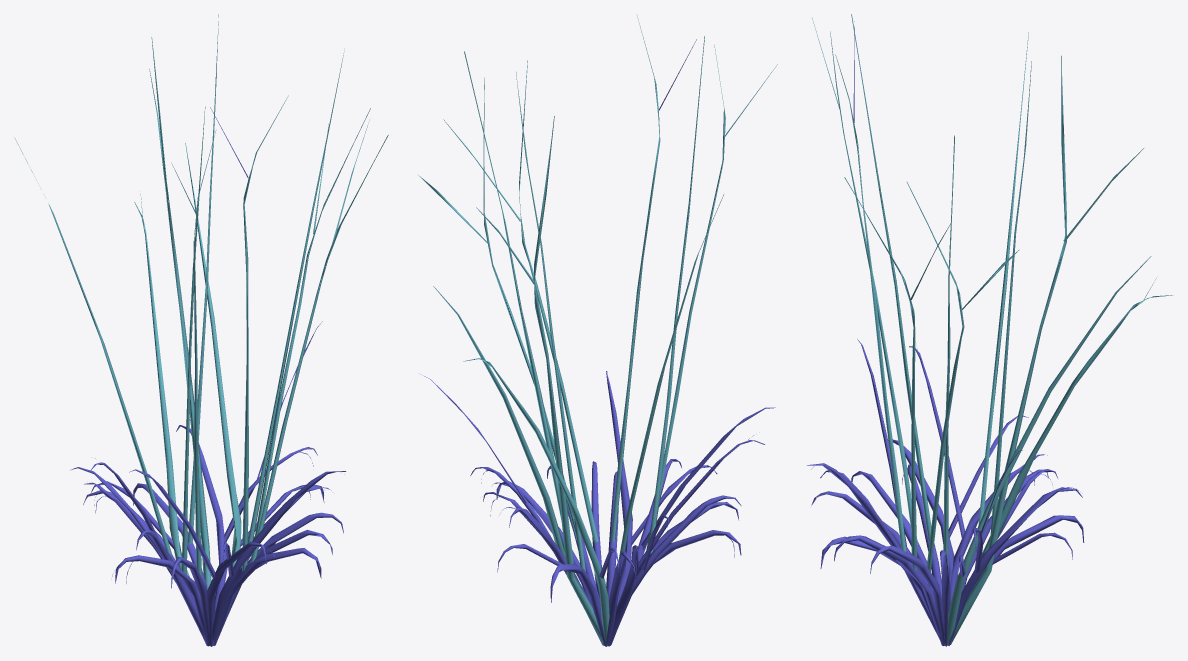
File: grass_3.obj
The picture shows the model from 3 angles, left to right: view 1: azimuth 30°, elevation 25°; view 2: azimuth 150°, elevation 25°; view 3: azimuth 270°, elevation 25°; orthographic projection. The views are drawn at different scales.
Parts seen in each view (by area): view 1: Grass_Bundle_3_CUtree.001; view 2: Grass_Bundle_3_CUtree.001; view 3: Grass_Bundle_3_CUtree.001.
Boxes of the visible parts, bbox=[...] form: Grass_Bundle_3_CUtree.001: bbox=[14, 14, 388, 646]; Grass_Bundle_3_CUtree.001: bbox=[418, 14, 777, 646]; Grass_Bundle_3_CUtree.001: bbox=[807, 14, 1173, 646].
Bounding box in the file's own units: 2.33 × 4.12 × 2.25.
